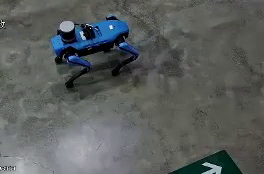robot dog: (49, 12, 139, 97)
